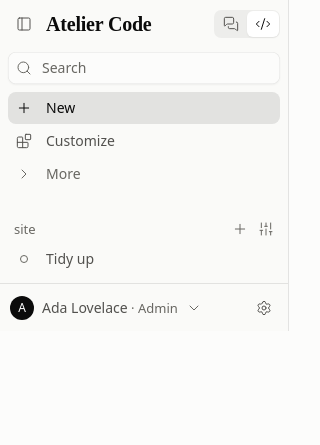
Sidebar › opens a session’s menu on right-click too, at the pointer, without opening the session
This screenshot has width=320, height=445.
Right-click the link "Tidy up" at (57, 258), box top-left (20, 249), bottom-right (94, 268)
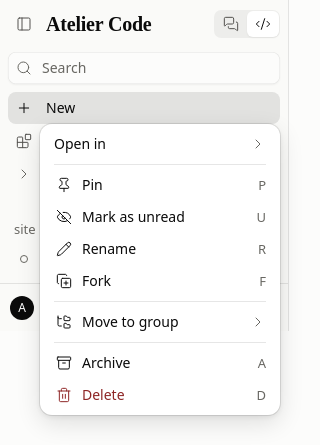
Press p in the menu, box top-left (40, 124), bottom-right (280, 415)
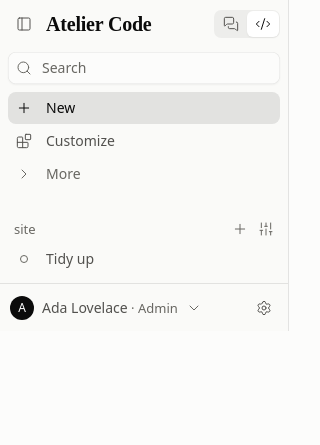
Check: the menu is gone
